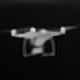plane: (9, 23, 79, 58)
